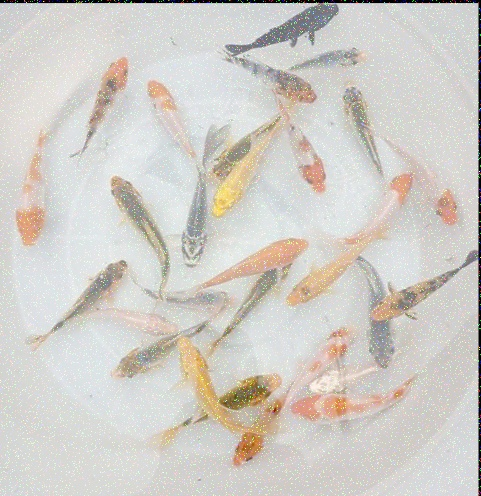fry: (8, 127, 73, 260), (105, 170, 174, 281), (67, 51, 131, 170), (33, 262, 125, 331), (283, 239, 366, 315), (208, 223, 310, 284), (349, 261, 401, 372), (176, 334, 231, 432), (295, 390, 417, 434), (293, 388, 415, 432), (291, 386, 413, 430), (145, 75, 200, 166), (337, 78, 386, 178), (355, 163, 415, 239), (170, 172, 213, 278), (231, 253, 290, 330), (105, 331, 186, 387), (237, 5, 337, 48), (289, 313, 355, 378), (371, 271, 449, 325), (411, 156, 464, 235), (210, 363, 288, 416), (231, 395, 281, 475), (209, 157, 270, 222), (245, 54, 322, 104), (308, 354, 389, 396), (284, 130, 331, 202), (164, 281, 246, 319), (205, 125, 257, 183), (106, 303, 185, 340), (295, 39, 373, 75), (316, 360, 386, 396)
